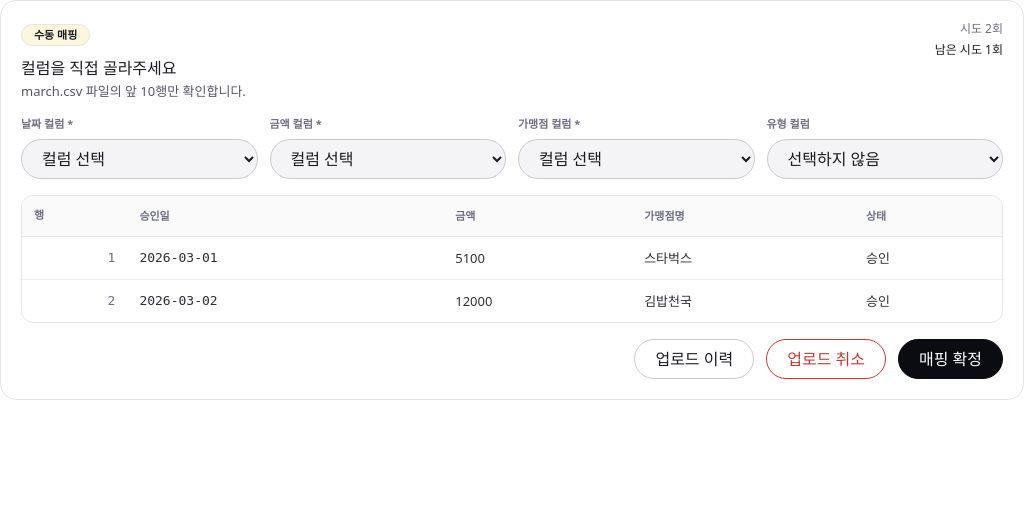
Test case: ManualMappingForm › cancels the upload when the mapping attempt cap returns 422
Expected: the text "남은 시도 1회" is shown, [935,42,1003,59]
Select "승인일" in the dropdown labelled "날짜 컬럼". click: {"x": 139, "y": 159}
box: [21,139,258,179]
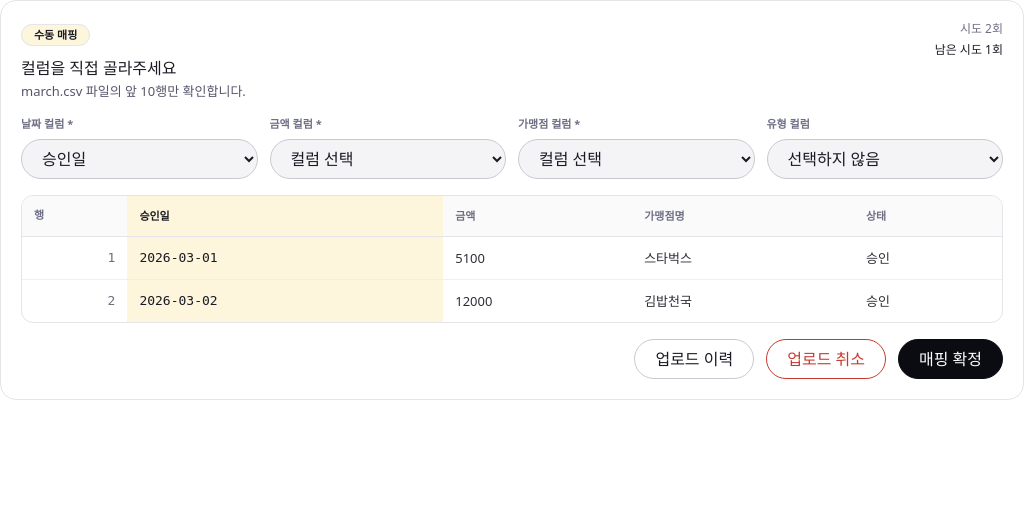
Select "금액" in the dropdown labelled "금액 컬럼". click: {"x": 388, "y": 159}
box: [270,139,506,179]
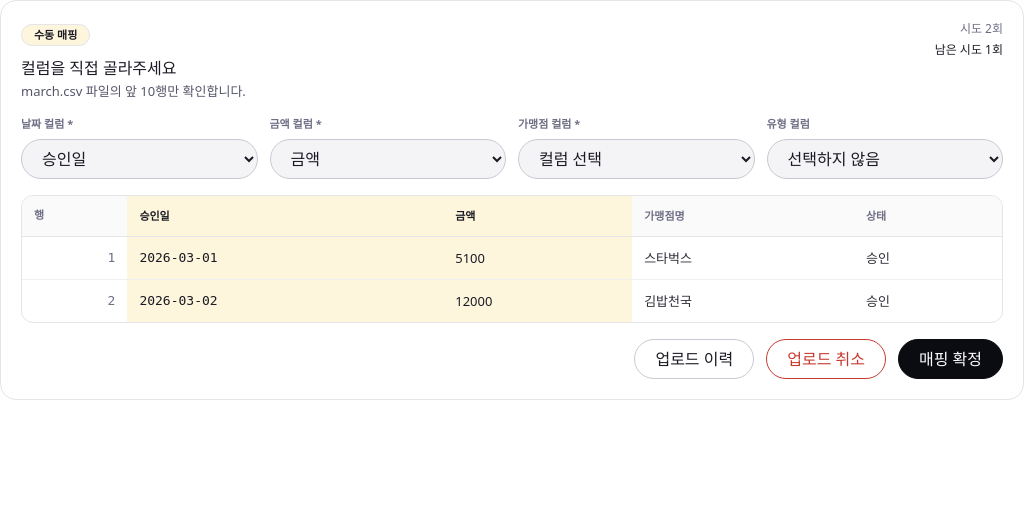
Select "가맹점명" in the dropdown labelled "가맹점 컬럼". click: {"x": 636, "y": 159}
box: [518,139,754,179]
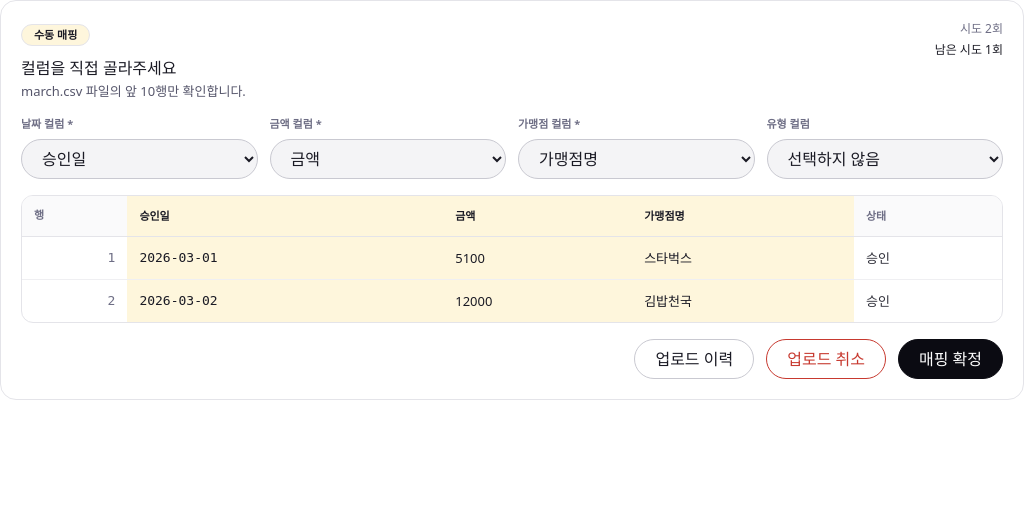
Click the button "매핑 확정". click: {"x": 950, "y": 359}
box: [898,339,1003,379]
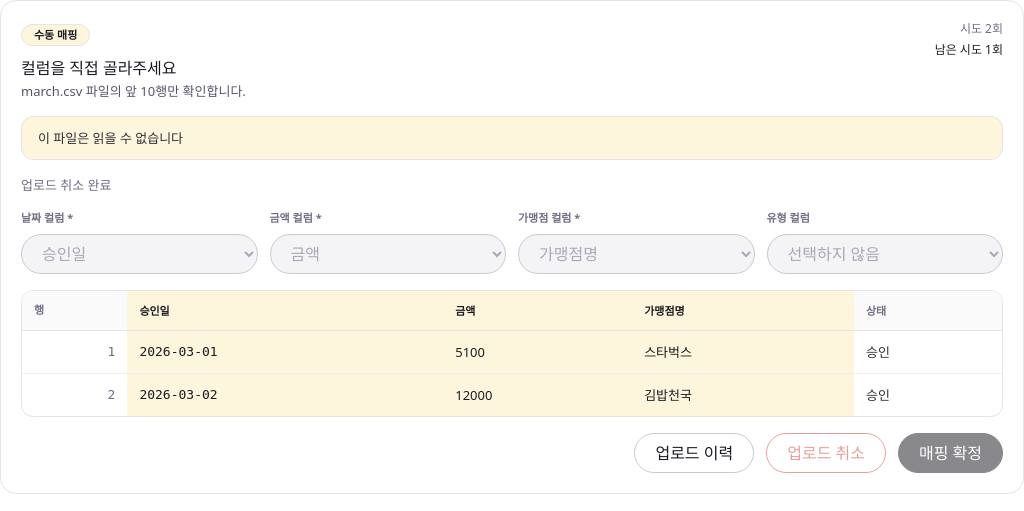
Expected: the text "이 파일은 읽을 수 없습니다" is shown, [21,116,1003,160]
Expected: the text "업로드 취소 완료" is shown, [21,176,112,194]
Expected: the button "매핑 확정" is disabled, [898,433,1003,473]
